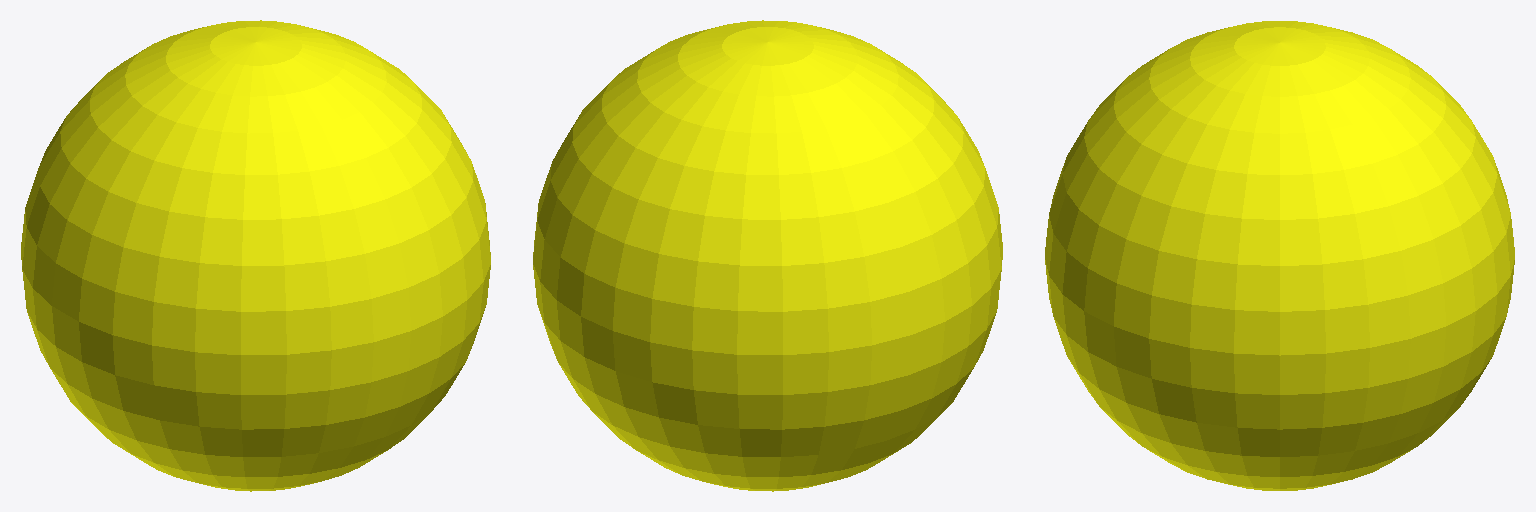
The robot description file, URDF, robot "simple_cuboid":
<?xml version="1.0"?>
<robot name="simple_cuboid">
  <link name="base_link">
      <inertial>
      <origin xyz="0 0 0" rpy="0 0 0" />
      <mass value="0.1" />
      <inertia ixx="0.000167" ixy="0" ixz="0" iyy="0.000167" iyz="0"
          izz="0.000167" />
    </inertial>
    <visual>
      <origin xyz="0 0 0" rpy="0 0 0" />
      <geometry>
        <sphere radius="0.07"/>
      </geometry>
      <material name="green">
        <color rgba="1 1 0.1 1" />
      </material>
    </visual>
   </link>
</robot>

--- Facts derived from the render (not from the file) ---
The picture shows the robot from 3 angles, left to right: view 1: azimuth 30°, elevation 25°; view 2: azimuth 150°, elevation 25°; view 3: azimuth 270°, elevation 25°; orthographic projection.
Model simple_cuboid with 1 links and 0 joints (none), rooted at base_link, posed all joints at 0.
Links seen in each view (by area): view 1: base_link; view 2: base_link; view 3: base_link.
Boxes of the visible links, x1,y1,x2,y2 form: base_link: (21, 20, 490, 491); base_link: (533, 20, 1002, 491); base_link: (1045, 21, 1514, 490).
Bounding box of the posed robot: 0.14 × 0.14 × 0.14 m (x, y, z).
Geometry: primitives only (box / cylinder / sphere), no mesh files.